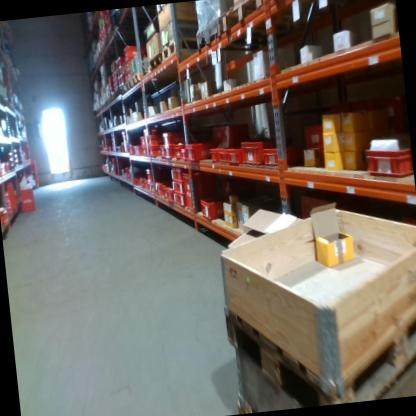pallet: (223, 263, 416, 412), (218, 0, 266, 35), (192, 14, 224, 52), (160, 34, 201, 61), (146, 52, 164, 79), (130, 68, 147, 89), (106, 27, 115, 44), (113, 86, 121, 104), (124, 77, 132, 92), (118, 83, 125, 99), (102, 35, 109, 51)
small_load_carrier: (364, 141, 413, 180), (182, 171, 217, 204), (240, 134, 277, 165), (262, 142, 305, 168), (184, 142, 214, 165), (200, 198, 224, 221), (303, 122, 324, 148), (222, 124, 254, 140), (19, 185, 37, 211), (174, 186, 188, 209), (162, 131, 185, 145), (218, 148, 233, 163), (227, 147, 241, 163), (146, 133, 163, 146), (208, 147, 221, 163), (176, 143, 187, 161), (172, 179, 185, 193), (163, 144, 176, 158), (123, 44, 136, 58), (223, 138, 240, 148), (171, 170, 183, 184), (147, 145, 161, 157), (213, 127, 223, 140), (166, 188, 174, 202), (0, 210, 8, 223), (145, 169, 152, 182), (157, 183, 163, 196), (181, 148, 187, 159), (141, 146, 147, 156), (217, 141, 223, 147)
